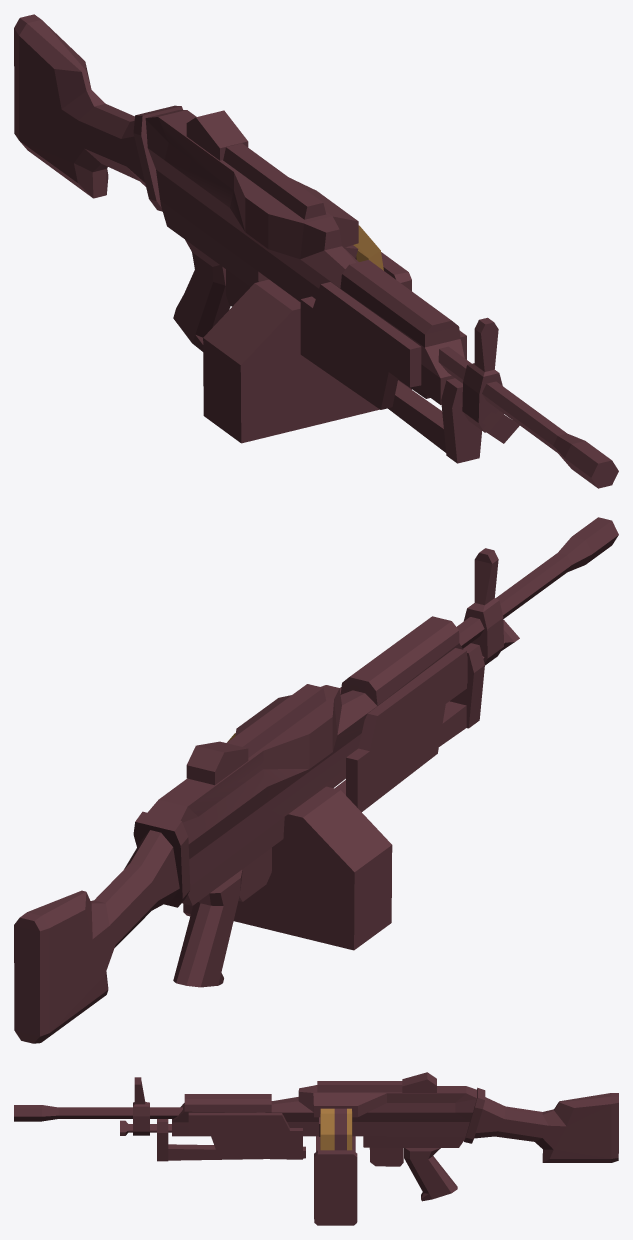
The model's file is SM_Machinegun.fbx.
The picture shows the model from 3 angles, top to bottom: view 1: azimuth 30°, elevation 25°; view 2: azimuth 150°, elevation 25°; view 3: azimuth 270°, elevation 25°; orthographic projection. The views are drawn at different scales.
Parts seen in each view (by area): view 1: SM_Machinegun; view 2: SM_Machinegun; view 3: SM_Machinegun.
Part boxes in pixels (x1,y1,x2,y2): SM_Machinegun: [14, 14, 618, 488]; SM_Machinegun: [14, 517, 618, 1043]; SM_Machinegun: [14, 1072, 618, 1225].
Size of the model in its own units: 0.1684 by 0.229 by 0.9935.
